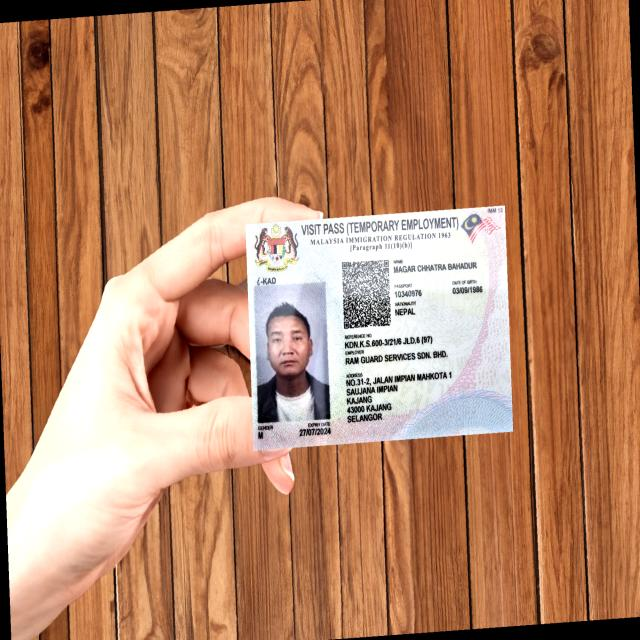ikad-temp: (245, 205, 513, 450)
